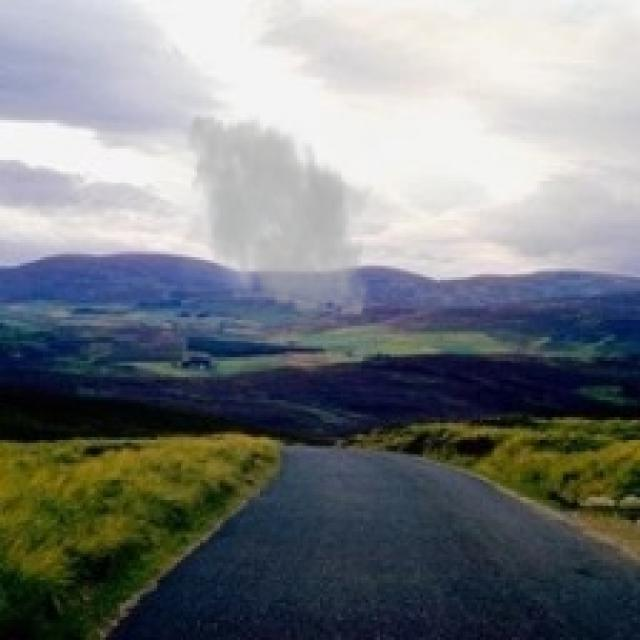Smoke: (172, 106, 388, 326)
